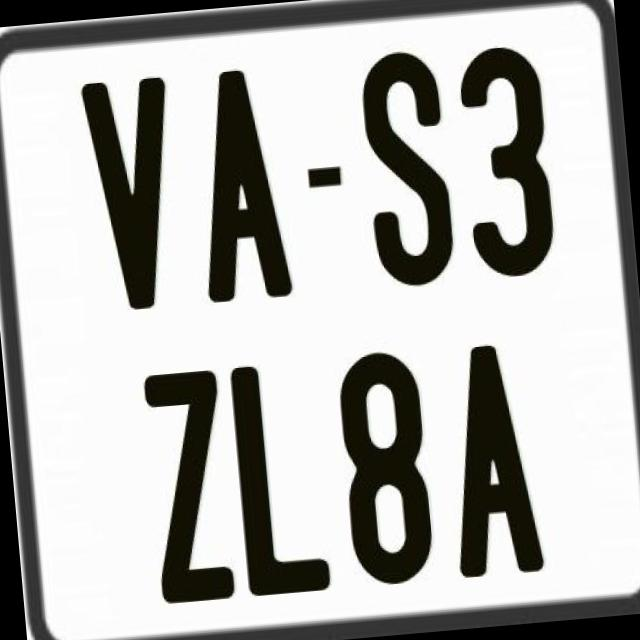3: (454, 44, 562, 288)
8: (331, 346, 432, 590)
A: (437, 342, 548, 588), (189, 67, 297, 310)
L: (224, 359, 334, 598)
S: (358, 46, 462, 289)
V: (81, 76, 188, 315)
Z: (138, 370, 232, 614)
